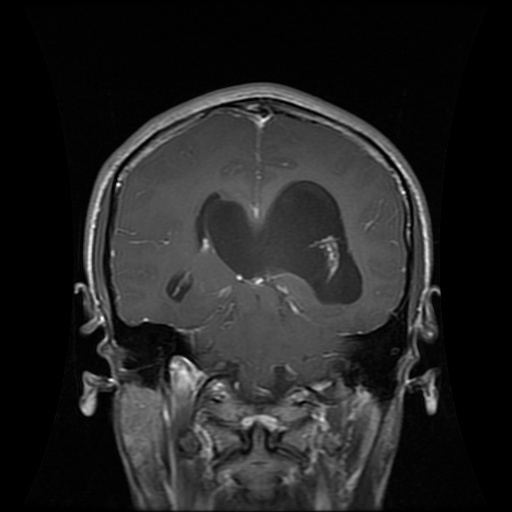glioma: (192, 180, 365, 307)
